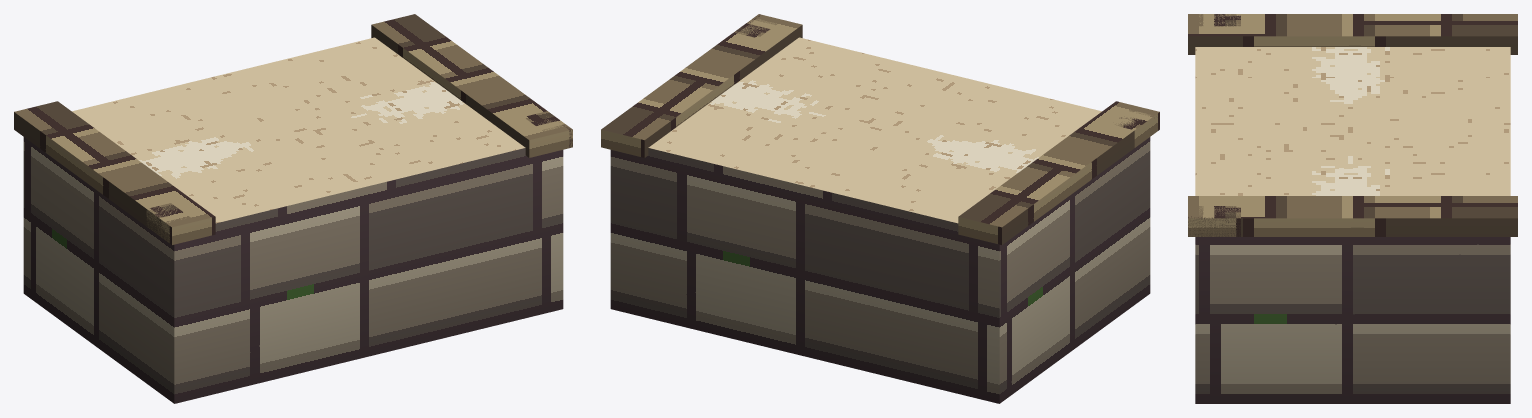
The model's file is scene_glass_terrace.glb.
3 views of the same model, side by side, from view 1: azimuth 30°, elevation 25°; view 2: azimuth 150°, elevation 25°; view 3: azimuth 270°, elevation 25° (orthographic). The views are drawn at different scales.
Parts seen in each view (by area): view 1: scene_glass_terrace; view 2: scene_glass_terrace; view 3: scene_glass_terrace.
Part boxes in pixels (box(x1,y1,x2,y2)): scene_glass_terrace: box(14, 14, 572, 403); scene_glass_terrace: box(601, 14, 1159, 403); scene_glass_terrace: box(1188, 14, 1517, 403).
Size of the model in its own units: 3.3 by 1.42 by 2.25.
2 materials, 2 textured.
